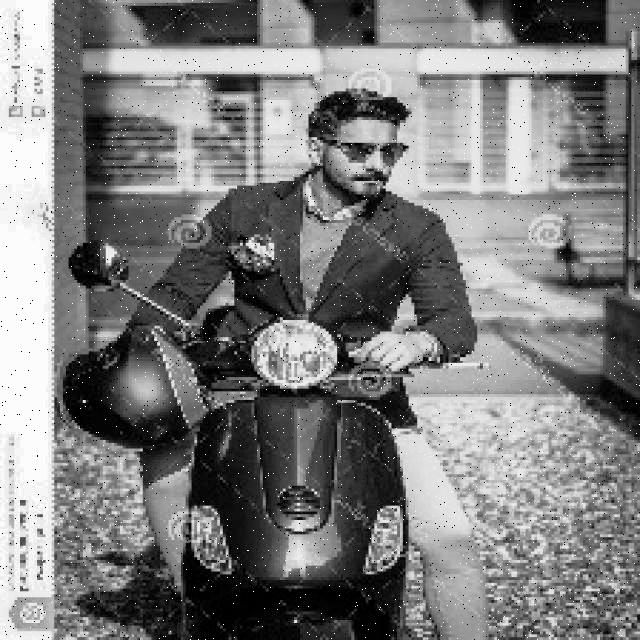Bike: (144, 307, 442, 639)
